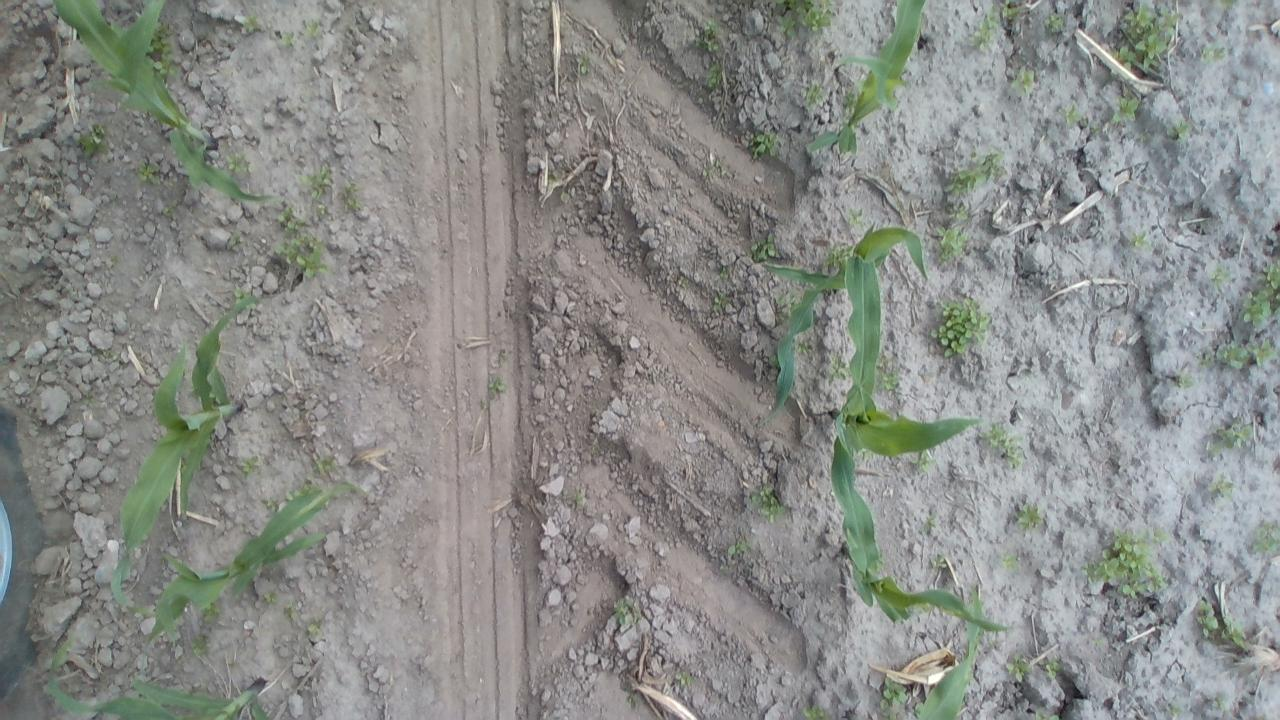Maize: (828, 244, 991, 569), (46, 0, 286, 211), (113, 290, 270, 612), (122, 483, 373, 641), (757, 224, 932, 422), (821, 514, 1016, 636), (804, 1, 934, 162), (41, 653, 285, 720), (905, 593, 987, 719)
Weeds: (1082, 526, 1173, 598), (1116, 1, 1179, 72), (931, 294, 992, 358), (276, 224, 328, 278), (1194, 599, 1248, 648), (1239, 262, 1280, 326), (956, 148, 1007, 190), (1214, 337, 1274, 371), (985, 420, 1025, 470), (1207, 419, 1256, 456), (792, 1, 838, 38), (748, 482, 787, 522), (970, 6, 1006, 49), (148, 24, 174, 76), (298, 164, 332, 198), (936, 224, 966, 260), (878, 678, 906, 716), (76, 124, 107, 158), (748, 129, 782, 160), (610, 593, 640, 628), (1110, 92, 1140, 126), (694, 22, 722, 55), (1015, 501, 1045, 531), (84, 344, 124, 366), (1253, 518, 1277, 554), (276, 207, 310, 230), (1005, 652, 1030, 681), (617, 678, 638, 712), (775, 11, 798, 42), (1206, 475, 1236, 497), (826, 354, 850, 380), (1012, 68, 1036, 94), (879, 362, 900, 391), (343, 179, 361, 212), (840, 89, 859, 120), (825, 240, 849, 264), (800, 82, 824, 106), (226, 152, 250, 176), (750, 234, 774, 258), (584, 435, 608, 459), (136, 162, 162, 184), (774, 291, 796, 317), (1198, 43, 1226, 62), (1060, 105, 1084, 127), (712, 292, 734, 316), (156, 199, 180, 221), (232, 289, 256, 310), (1172, 368, 1196, 389), (914, 450, 934, 475), (1167, 120, 1192, 140), (492, 346, 512, 371), (238, 454, 260, 476), (566, 486, 588, 508), (1000, 550, 1020, 574), (192, 632, 210, 658), (845, 206, 866, 228), (1000, 2, 1022, 23), (286, 482, 314, 498), (1044, 12, 1066, 32), (802, 703, 831, 718), (79, 391, 99, 412), (240, 15, 262, 34), (707, 64, 724, 88), (1210, 266, 1230, 286), (202, 602, 222, 622), (314, 454, 334, 474), (302, 18, 321, 38), (488, 374, 507, 394), (728, 540, 750, 557), (259, 496, 282, 512), (1130, 229, 1148, 249), (577, 52, 593, 74), (1042, 658, 1059, 678), (676, 670, 696, 687), (1032, 710, 1065, 720), (1089, 632, 1107, 650), (949, 204, 968, 221), (924, 510, 938, 532), (280, 30, 298, 46), (1198, 350, 1214, 368), (718, 264, 734, 282), (1211, 696, 1231, 710), (708, 156, 722, 176), (1166, 701, 1182, 718), (931, 554, 948, 570), (1089, 119, 1103, 138), (794, 340, 813, 354), (286, 602, 300, 620), (295, 404, 309, 421), (558, 190, 571, 208), (676, 274, 690, 290), (307, 621, 321, 637), (986, 636, 1000, 652), (476, 395, 489, 412), (228, 231, 241, 248), (107, 252, 120, 268), (716, 562, 730, 576), (315, 202, 328, 217), (263, 592, 278, 604), (1220, 0, 1238, 8), (548, 172, 560, 184), (774, 0, 792, 7), (1138, 132, 1148, 144)
